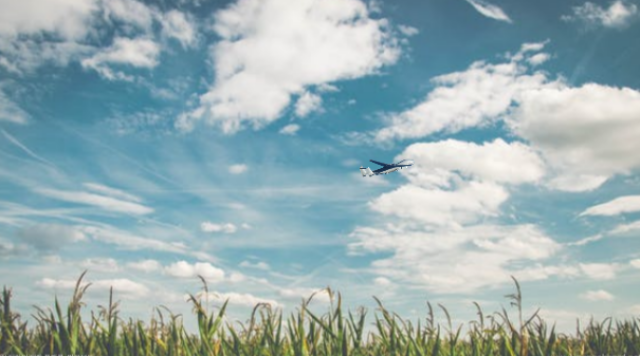military drone: (359, 158, 414, 178)
